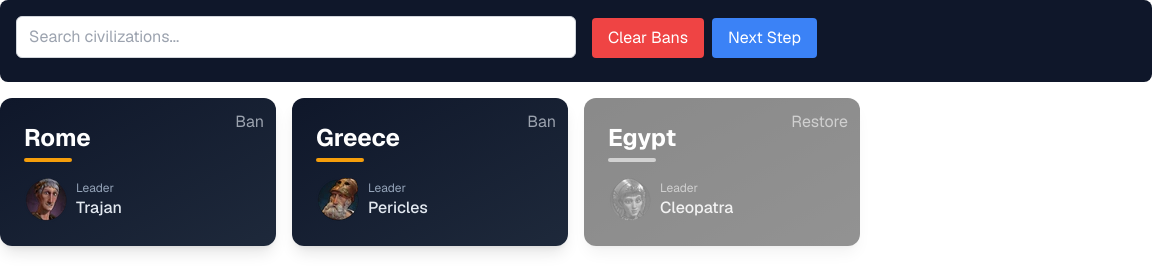
Test: CivList › should filter civs by search term
In the field with placeholder "Search civilizations...": x=296, y=37 [16,16,576,58], type "Rome"
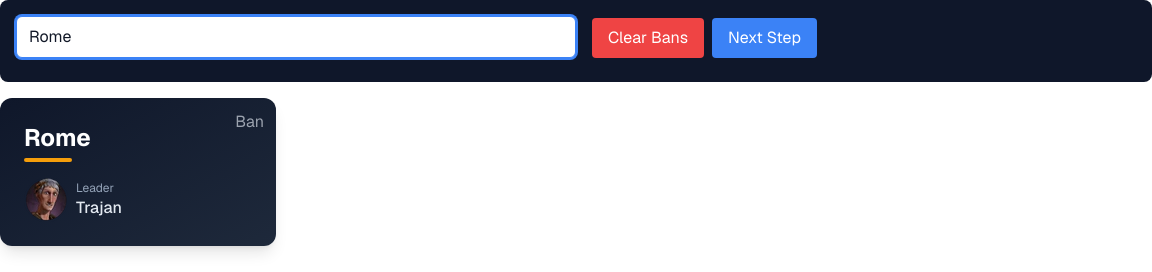
Check: the heading "Rome" is shown, box [24,122,91,153]
Check: the heading "Greece" is gone
Check: the heading "Egypt" is gone
